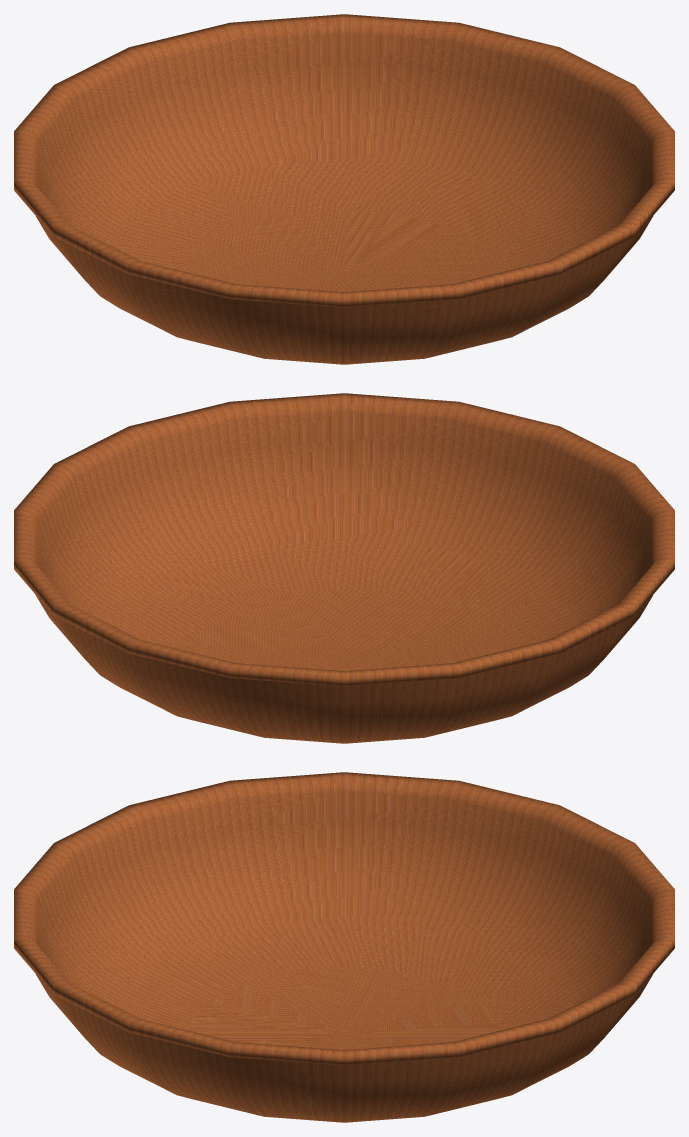
The model's file is oPlate.fbx.
The picture shows the model from 3 angles, top to bottom: view 1: azimuth 30°, elevation 25°; view 2: azimuth 150°, elevation 25°; view 3: azimuth 270°, elevation 25°; orthographic projection.
Parts seen in each view (by area): view 1: Cylinder001; view 2: Cylinder001; view 3: Cylinder001.
Boxes of the visible parts, x1,y1,x2,y2 form: Cylinder001: (14, 14, 674, 364); Cylinder001: (14, 393, 674, 743); Cylinder001: (14, 772, 674, 1122).
Size of the model in its own units: 61.88 by 13.89 by 60.94.
